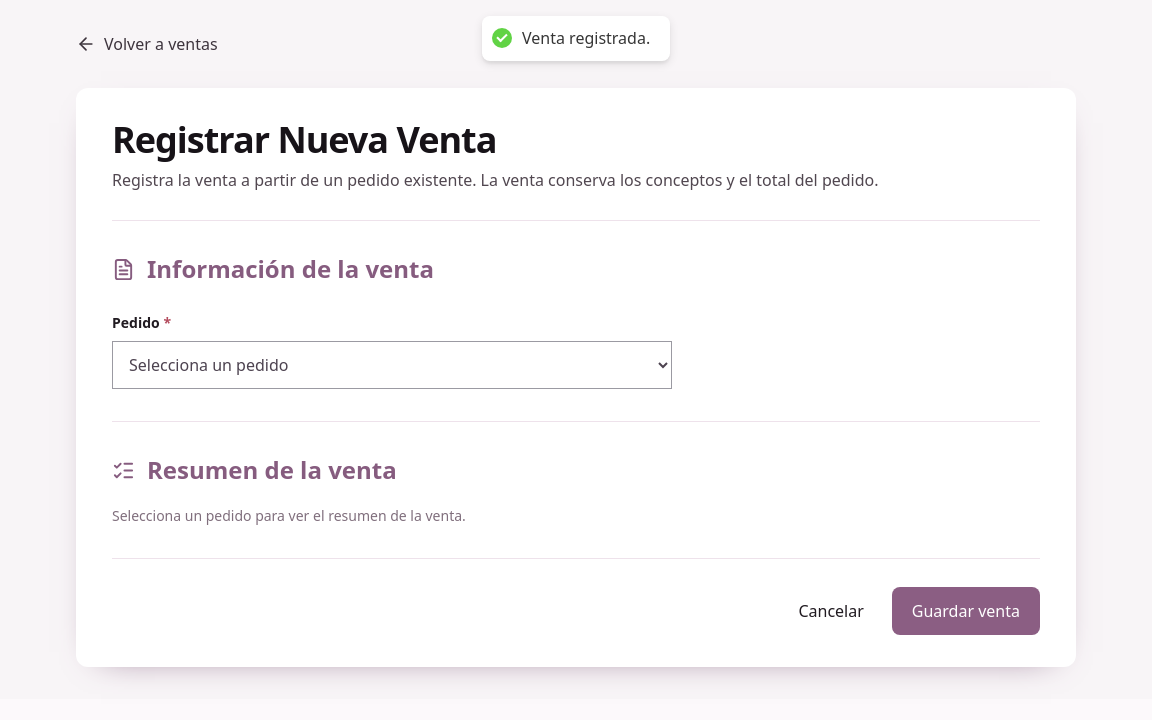
Test: SaleFormPage › requires selecting an order before saving
Click the button "Guardar venta" at (966, 611), box [892,587,1040,635]
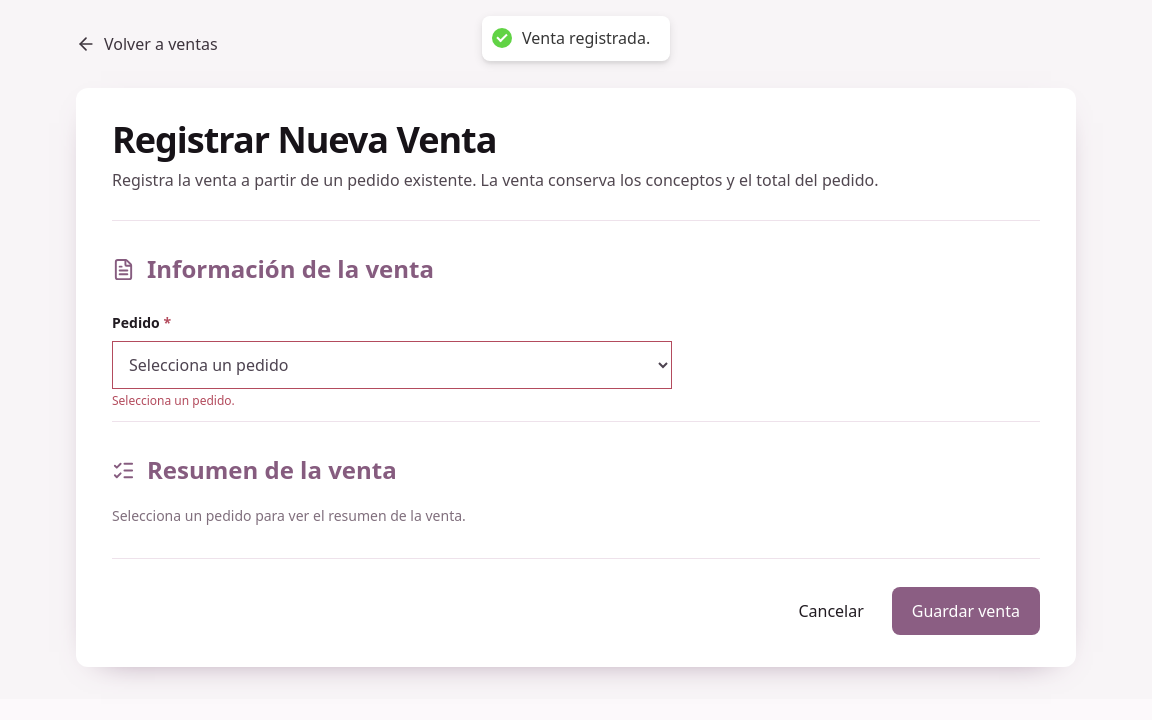
Expected: the text "Selecciona un pedido." is shown, [112,393,235,409]
